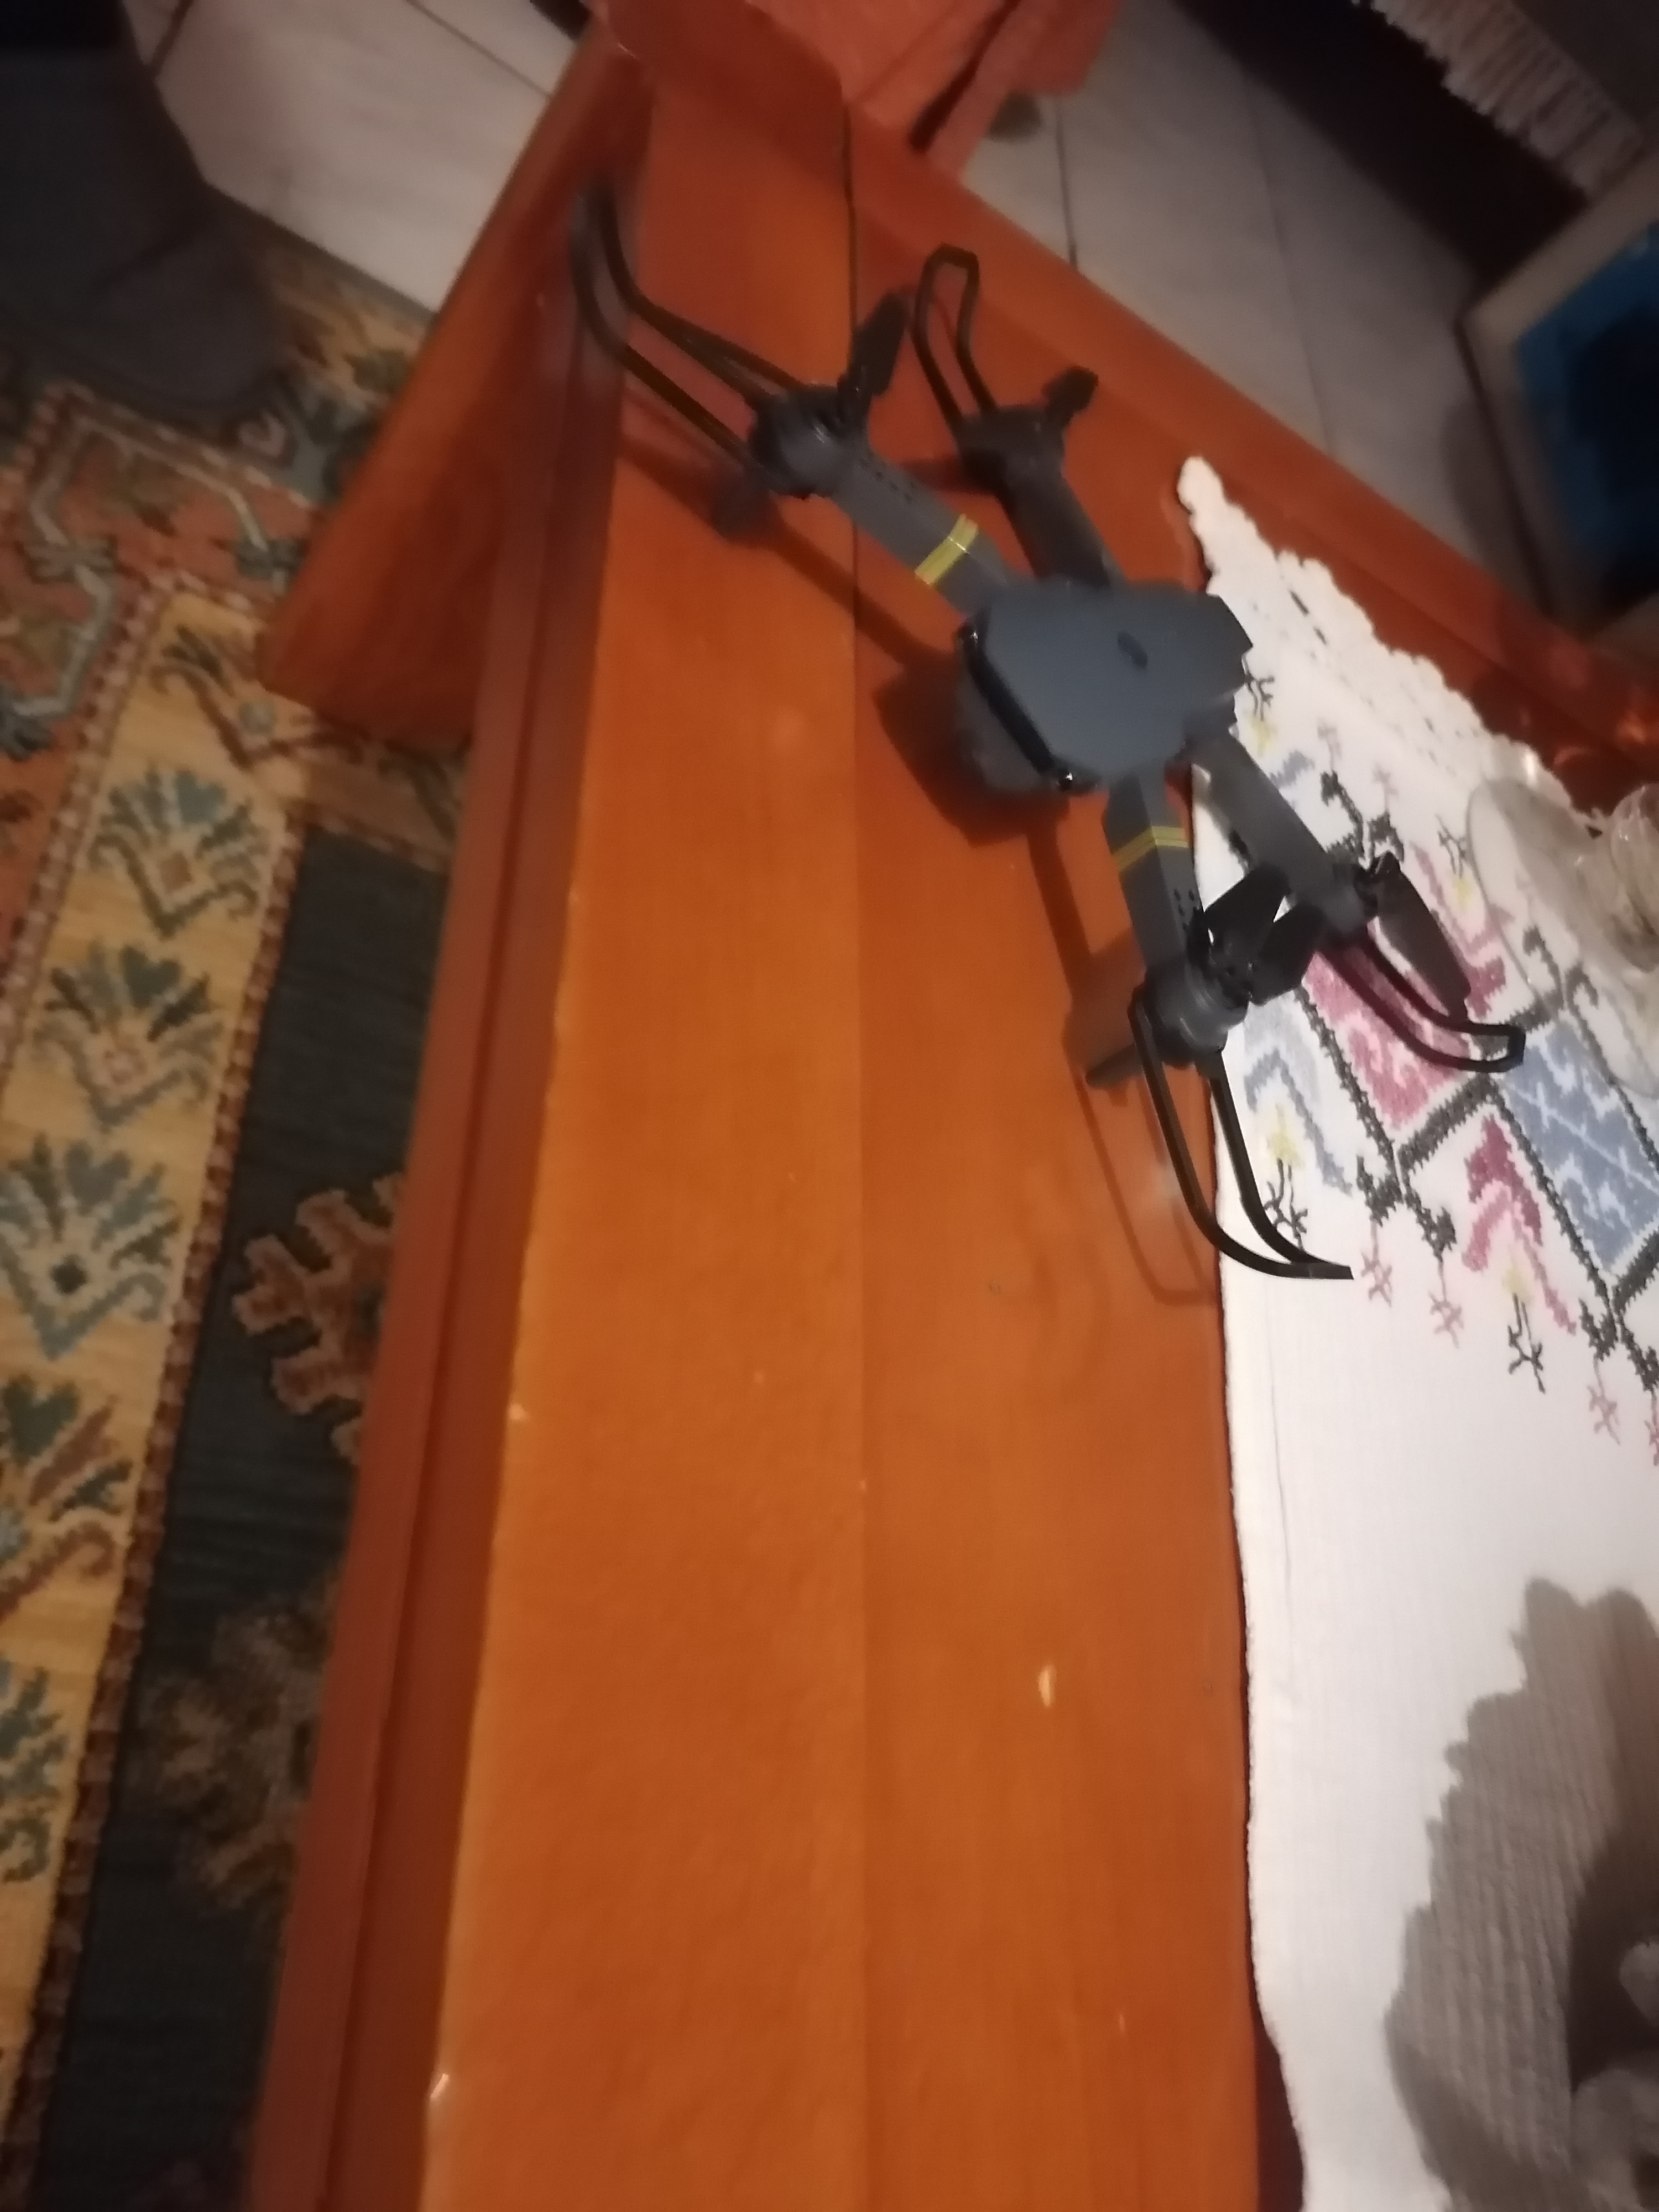drone: (897, 122, 1539, 1341)
